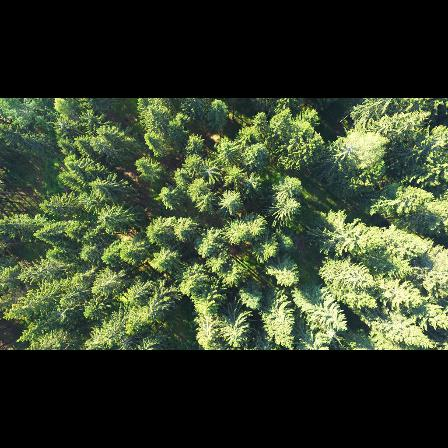Sick: (201, 160, 220, 182)
